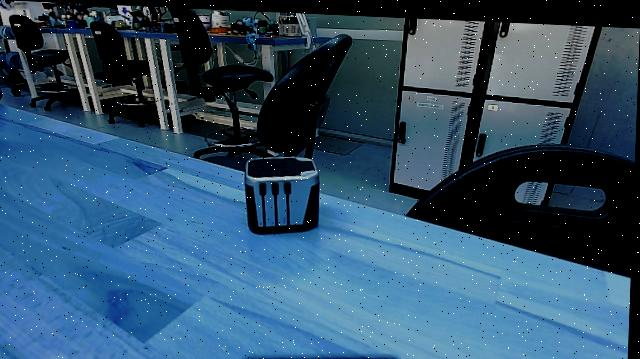adapter: (238, 147, 331, 238)
